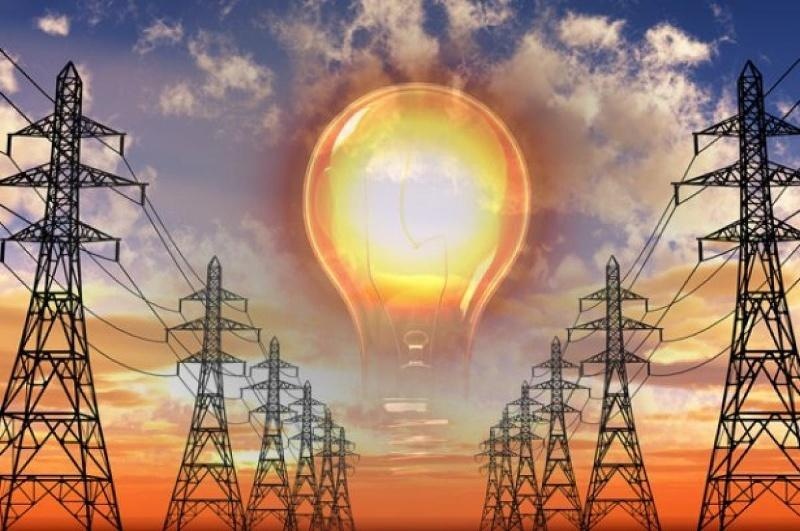power_tower: (21, 51, 118, 523), (698, 63, 793, 527), (177, 249, 248, 520), (590, 254, 661, 524), (532, 337, 586, 527), (245, 329, 294, 524)
